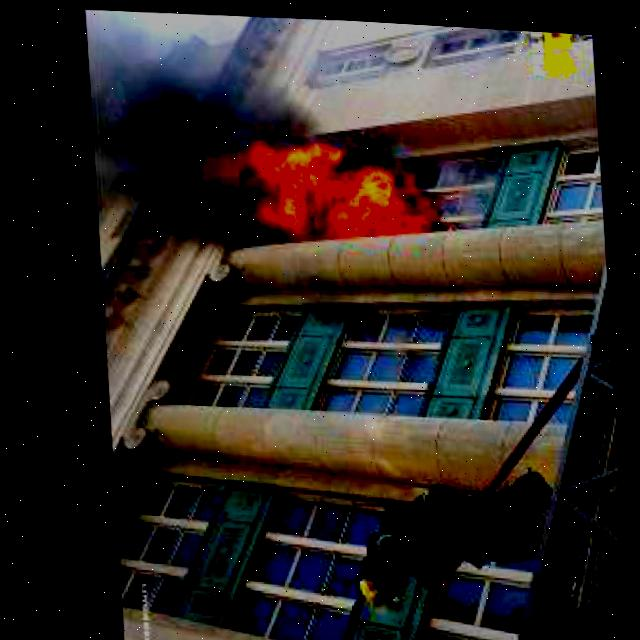Fire: (229, 122, 436, 258)
Smoke: (82, 15, 304, 246)
